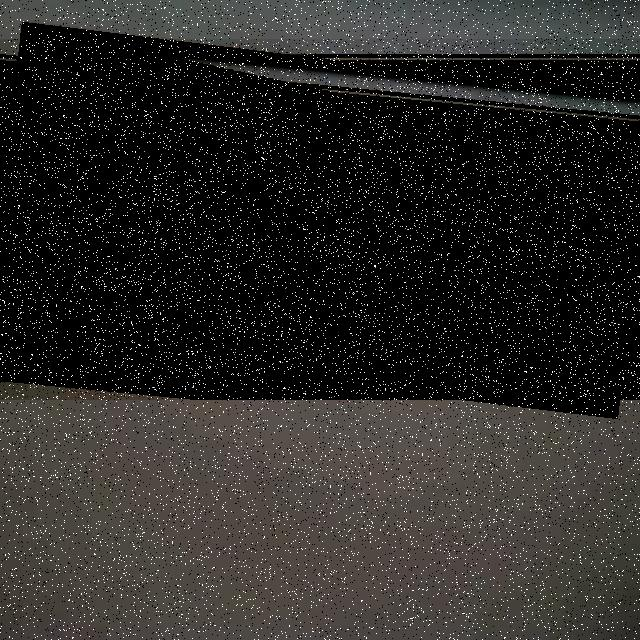dua puluh ribu rupiah: (0, 39, 640, 400)
